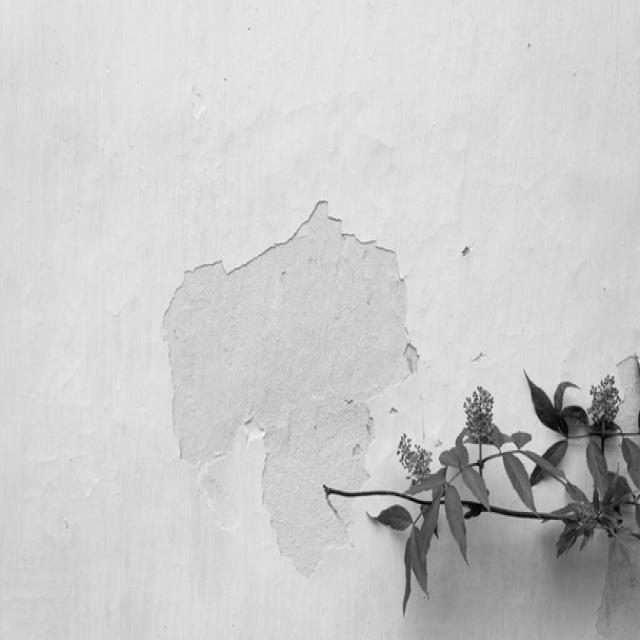peeling paint: (129, 149, 439, 599), (587, 332, 640, 638), (454, 338, 492, 384), (450, 231, 475, 270)
